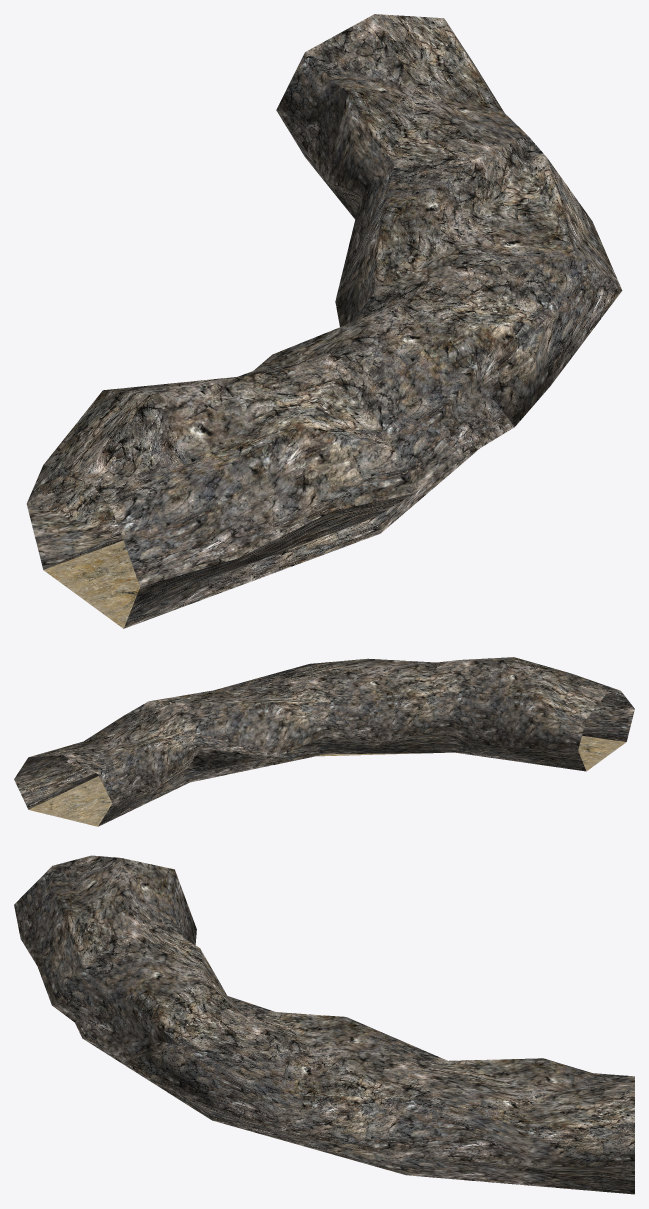
File: pir_m_are_cav_curveNarrowRight.fbx
3 views of the same model, one above another, from view 1: azimuth 30°, elevation 25°; view 2: azimuth 150°, elevation 25°; view 3: azimuth 270°, elevation 25° (orthographic). The views are drawn at different scales.
Visible parts, largest first — view 1: standardCurveNarrow_wall, standardCurveNarrow_floor; view 2: standardCurveNarrow_wall, standardCurveNarrow_floor; view 3: standardCurveNarrow_wall.
Part boxes in pixels (box(x1,y1,x2,y2)): standardCurveNarrow_wall: box(26, 14, 622, 628); standardCurveNarrow_floor: box(43, 540, 139, 628); standardCurveNarrow_wall: box(14, 657, 634, 826); standardCurveNarrow_floor: box(28, 735, 626, 826); standardCurveNarrow_wall: box(14, 855, 634, 1194).
Bounding box in the file's own units: 20000 × 4034 × 20000.
2 materials, 2 textured.
